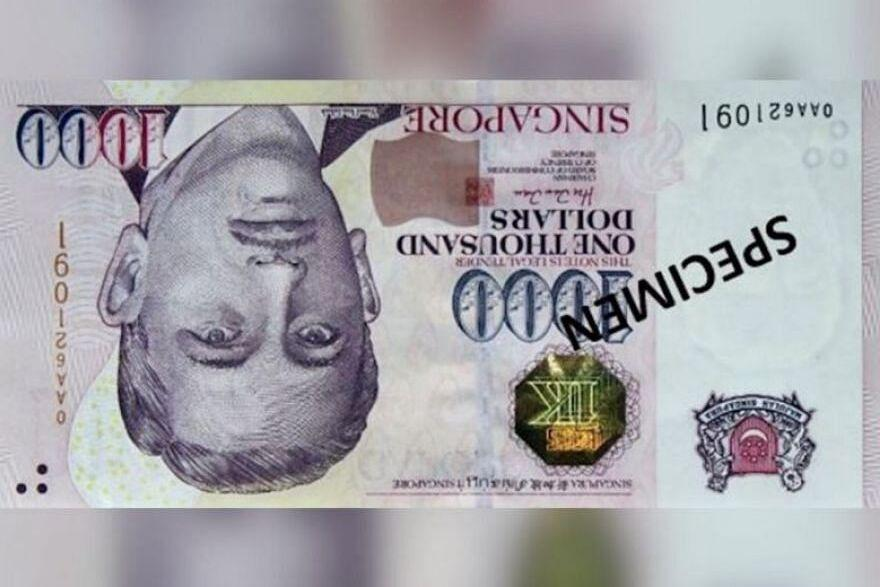1000SingaporeDollar: (0, 83, 880, 506)
